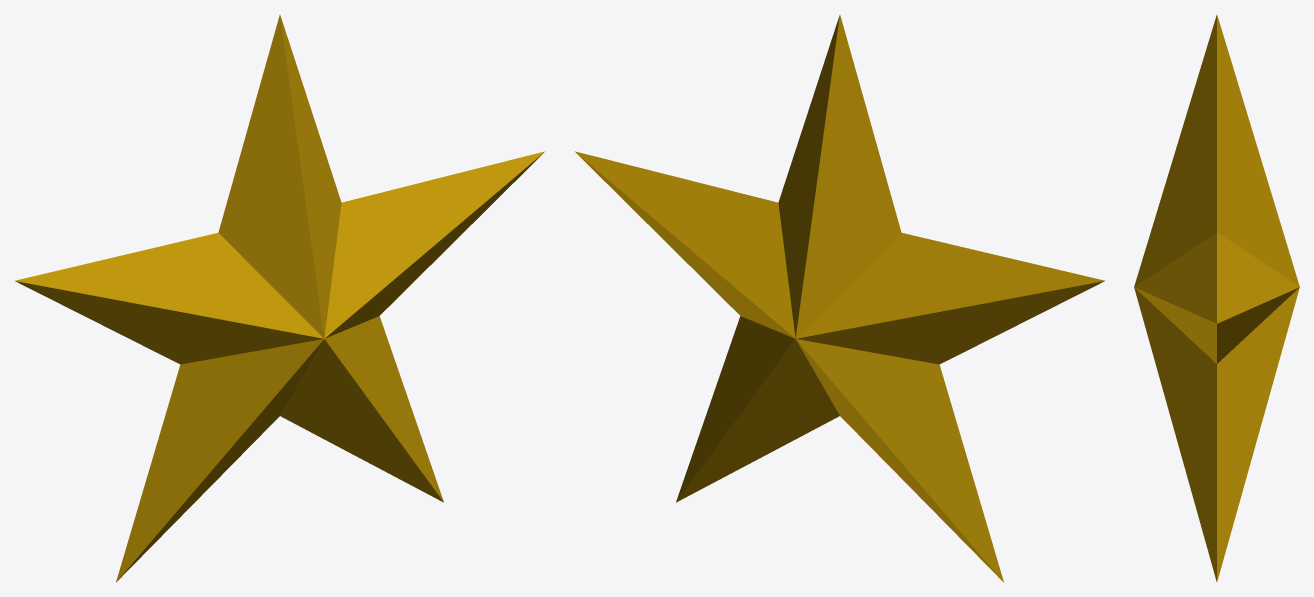
Rendered from star.fbx.
The picture shows the model from 3 angles, left to right: view 1: azimuth 30°, elevation 25°; view 2: azimuth 150°, elevation 25°; view 3: azimuth 270°, elevation 25°; orthographic projection. The views are drawn at different scales.
Visible parts, largest first — view 1: ESTRELLA; view 2: ESTRELLA; view 3: ESTRELLA.
Part boxes in pixels (x1,y1,x2,y2): ESTRELLA: [14, 15, 544, 582]; ESTRELLA: [575, 15, 1105, 582]; ESTRELLA: [1134, 15, 1299, 581].
Bounding box in the file's own units: 34.56 × 32.87 × 10.
